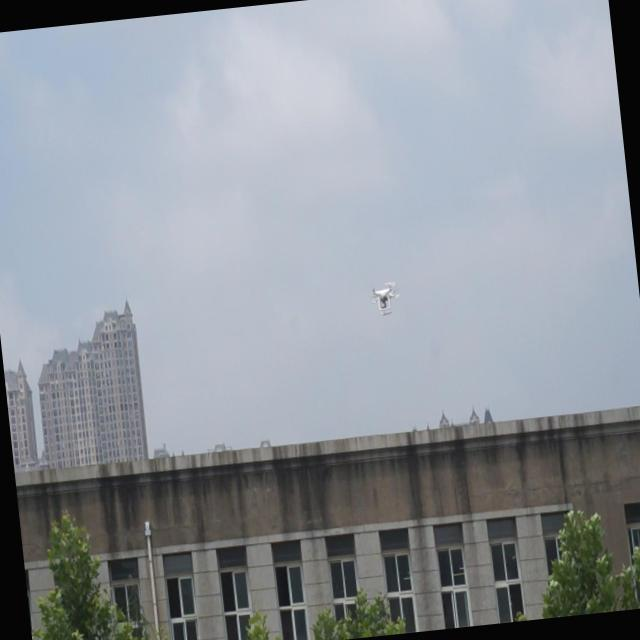drone: (368, 278, 404, 316)
